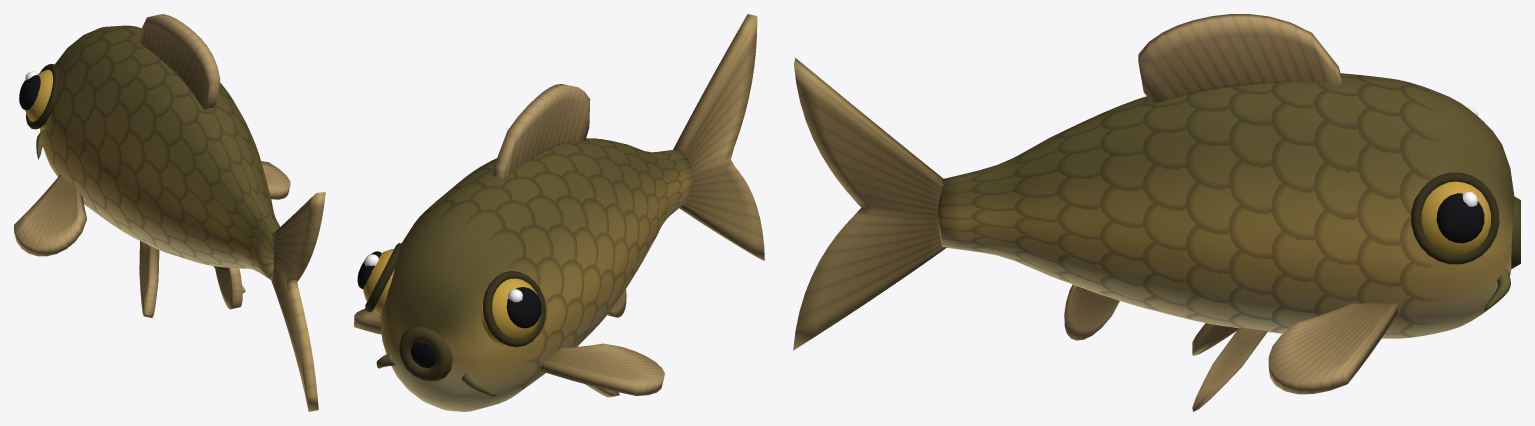
The model's file is Carp.fbx.
3 views of the same model, side by side, from view 1: azimuth 30°, elevation 25°; view 2: azimuth 150°, elevation 25°; view 3: azimuth 270°, elevation 25° (orthographic). The views are drawn at different scales.
Visible parts, largest first — view 1: Carp; view 2: Carp; view 3: Carp.
Part boxes in pixels (x1,y1,x2,y2): Carp: (14, 14, 325, 411); Carp: (354, 14, 764, 411); Carp: (793, 14, 1520, 411).
Size of the model in its own units: 164 by 161 by 289.
Materials: 1 (1 with a texture image).
